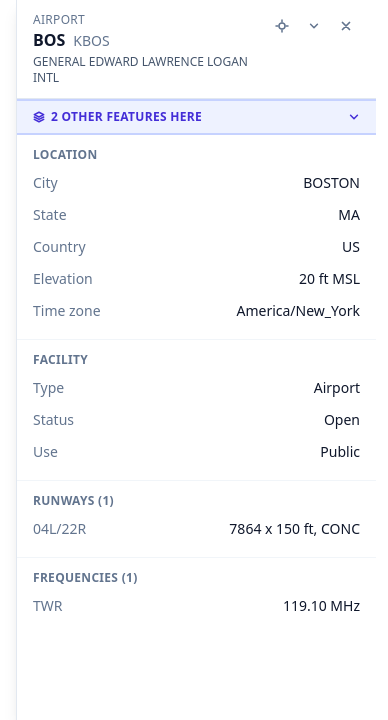
Test: EntityInspector › renders a chip for each sibling that resolves and is not the current selection
Click the button "2 other features here".
click(196, 117)  # box [17,101,376,133]
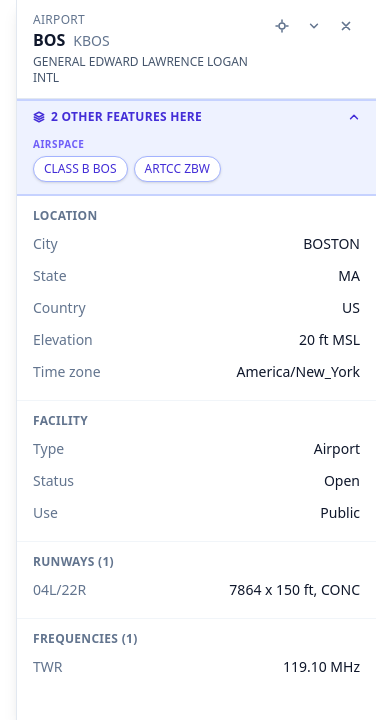
Now the button "CLASS B BOS" is shown, box [33,156,128,182]
Now the button "ARTCC ZBW" is shown, box [134,156,221,182]
